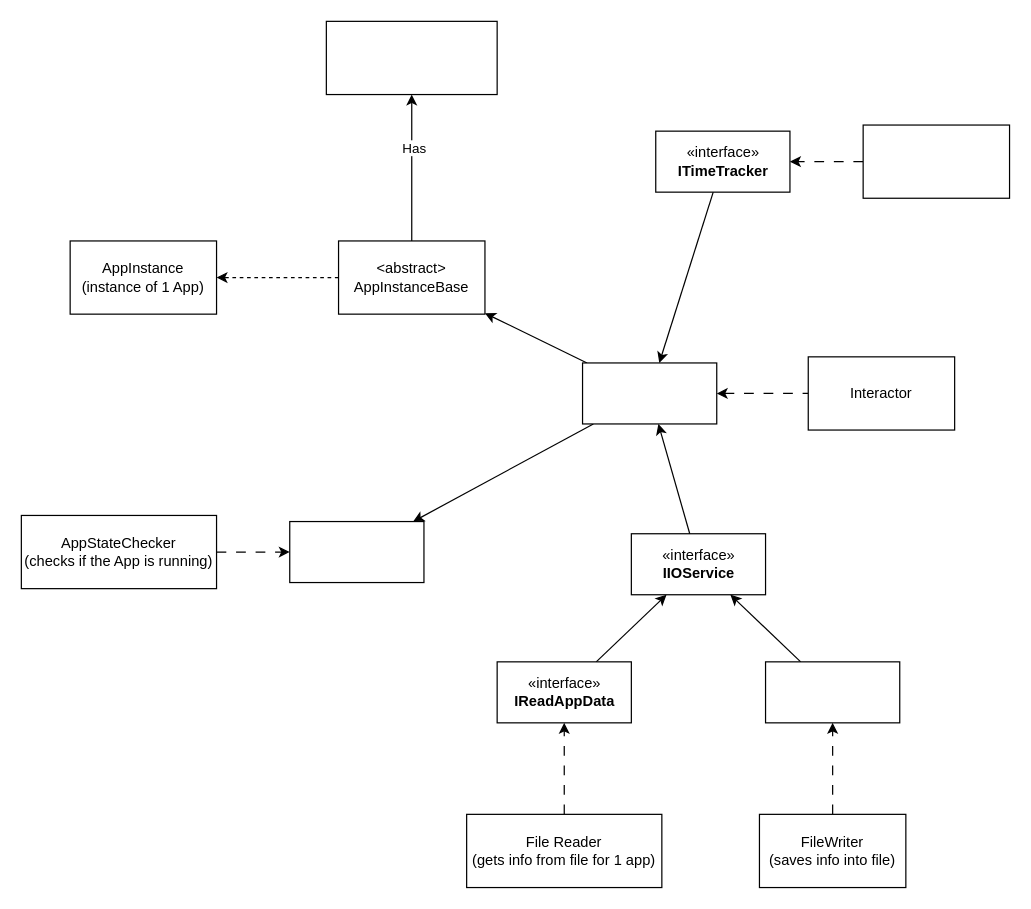
This 1031x909 diagram has some shape labels left out. The shapes that lost their labels are listed below. From the top down, each one's centre as x and y in pixels, then its label:
At (x=411, y=57): "UpTime (single Uptime for Date)".
At (x=936, y=161): "TimeTracker (Updates every minute, add time to Uptimes)".
At (x=649, y=393): "«interface» IInteractor".
At (x=356, y=551): "«interface» IAppStateChecker".
At (x=832, y=692): "«interface» IWriteAppData".
